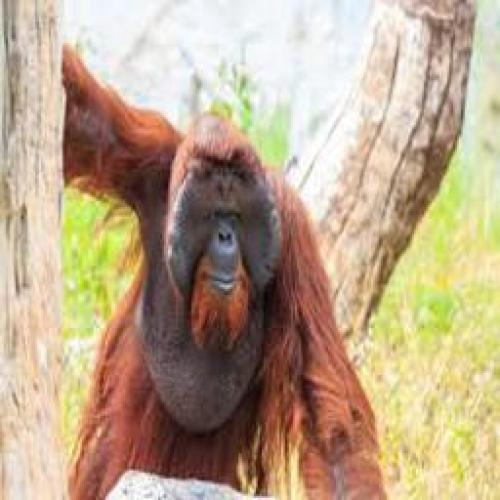orangutan-endangered: (60, 41, 383, 500)
